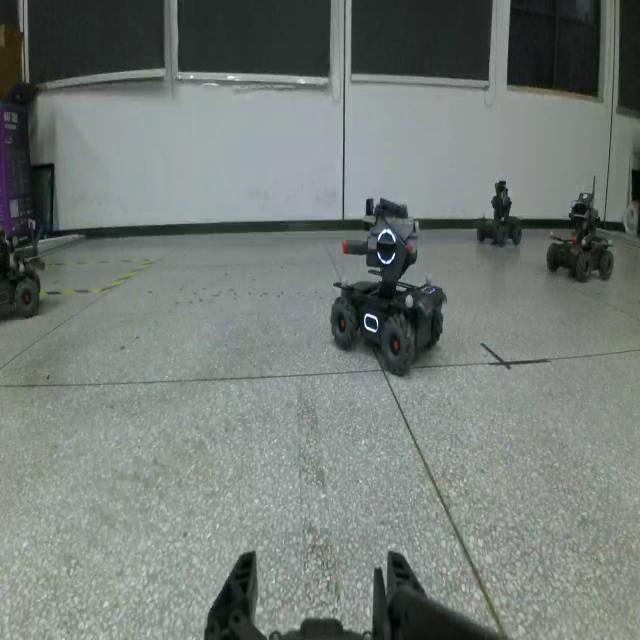s1: (327, 191, 447, 378), (543, 176, 616, 280), (473, 175, 524, 251)
